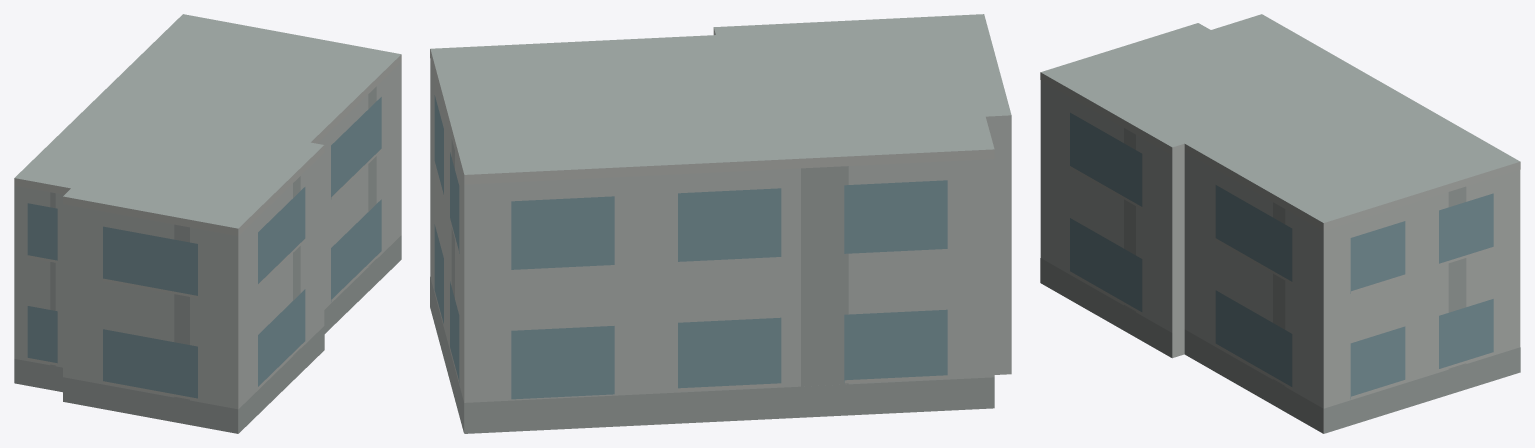
The model's file is residential-839037f3-551c-4cef-825f-816f106dcc31.glb.
3 views of the same model, side by side, from view 1: azimuth 30°, elevation 25°; view 2: azimuth 150°, elevation 25°; view 3: azimuth 270°, elevation 25° (orthographic). The views are drawn at different scales.
Parts seen in each view (by area): view 1: residential-839037f3-551c-4cef-825f-816f106dcc31.tmp; view 2: residential-839037f3-551c-4cef-825f-816f106dcc31.tmp; view 3: residential-839037f3-551c-4cef-825f-816f106dcc31.tmp.
Boxes of the visible parts, x1=… form: residential-839037f3-551c-4cef-825f-816f106dcc31.tmp: x1=14, y1=14, x2=401, y2=433; residential-839037f3-551c-4cef-825f-816f106dcc31.tmp: x1=430, y1=14, x2=1011, y2=433; residential-839037f3-551c-4cef-825f-816f106dcc31.tmp: x1=1040, y1=14, x2=1520, y2=433.
Bounding box in the file's own units: 13.84 × 6.5 × 13.42.
